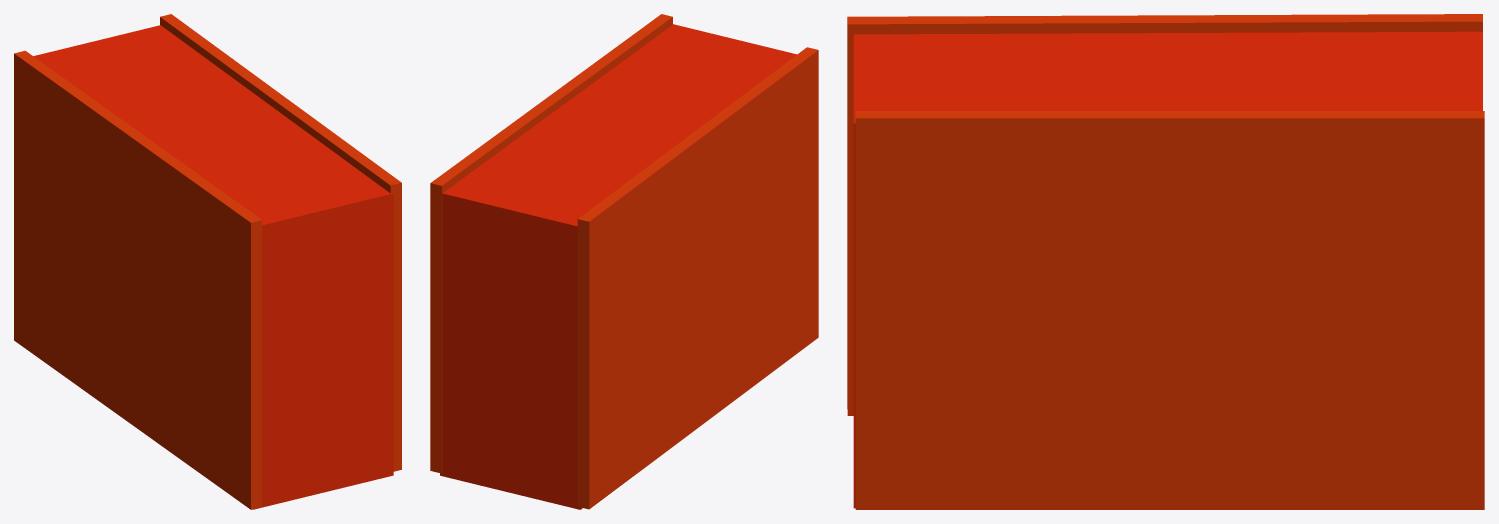
Rendered from thewall.fbx.
3 views of the same model, side by side, from view 1: azimuth 30°, elevation 25°; view 2: azimuth 150°, elevation 25°; view 3: azimuth 270°, elevation 25° (orthographic). The views are drawn at different scales.
Visible parts, largest first — view 1: Cube.001, Cube.002, Cube; view 2: Cube.001, Cube.002, Cube; view 3: Cube, Cube.002, Cube.001.
Part boxes in pixels (x1=…): Cube.001: x1=14, y1=50, x2=262, y2=509; Cube.002: x1=33, y1=25, x2=393, y2=509; Cube: x1=160, y1=14, x2=401, y2=471; Cube.001: x1=577, y1=47, x2=818, y2=509; Cube.002: x1=440, y1=24, x2=796, y2=509; Cube: x1=430, y1=14, x2=672, y2=473; Cube: x1=855, y1=111, x2=1484, y2=509; Cube.002: x1=853, y1=31, x2=1482, y2=508; Cube.001: x1=847, y1=14, x2=1482, y2=415.
Bounding box in the file's own units: 203 × 356 × 520.
